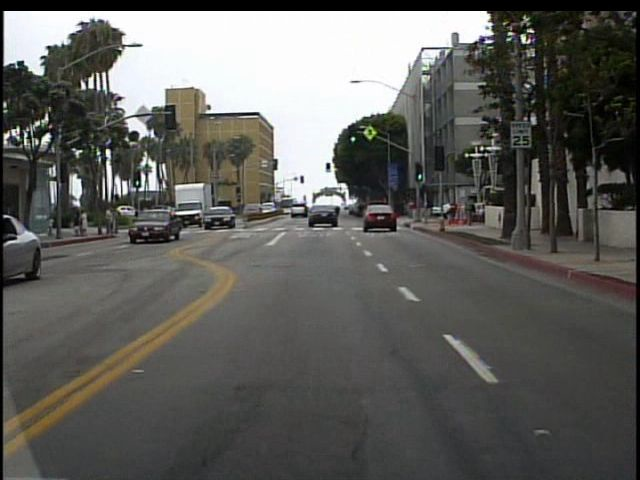person: (105, 202, 118, 238)
